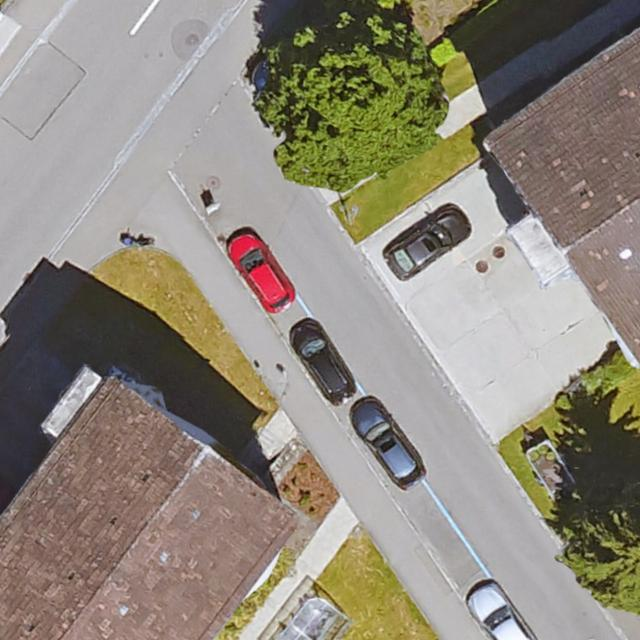tree: (257, 11, 446, 185), (562, 479, 640, 615)
